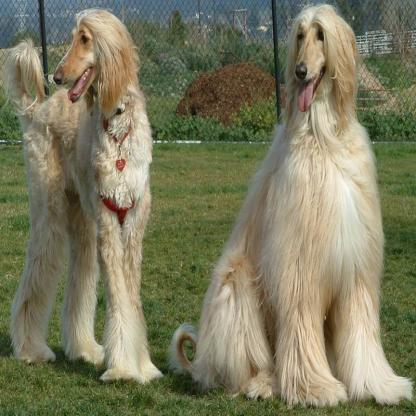Afghan Hound: (218, 1, 394, 383), (3, 6, 183, 321)
